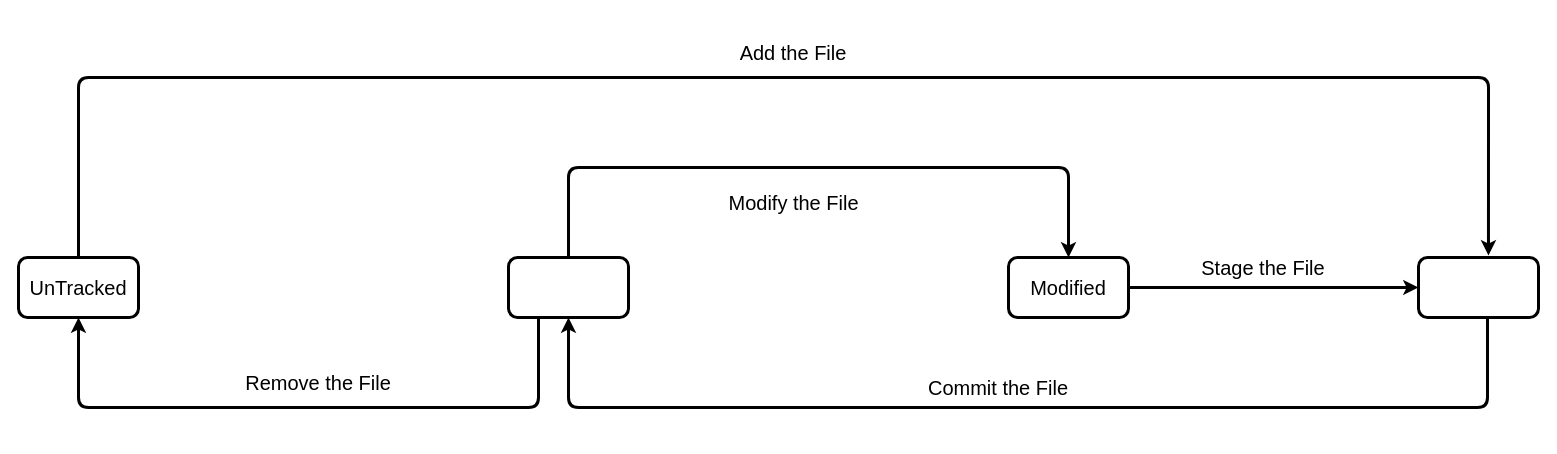
This 1557x454 diagram has some shape labels left out. The shapes that lost their labels are listed below. From the top down, each one's box as (x1, y1, x2, y2) in pixels, then its label:
(506, 256, 630, 318): UnModified
(1416, 256, 1540, 318): Staging Area
